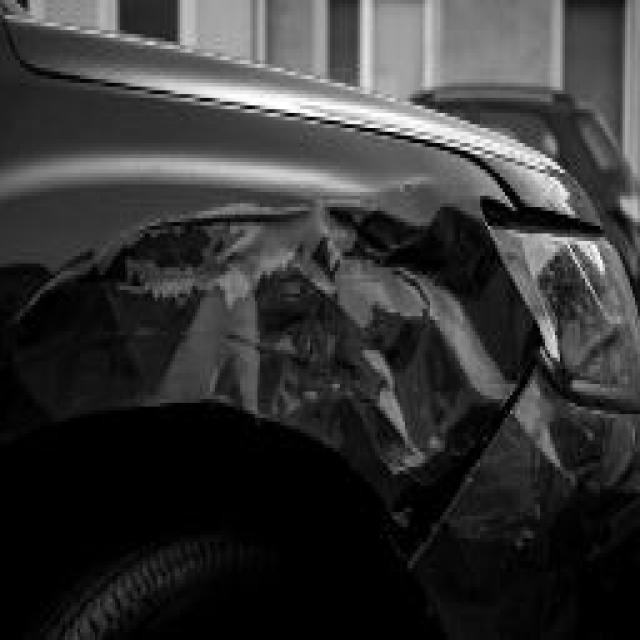Bumper: (411, 363, 640, 640)
Fender: (7, 84, 540, 561)
